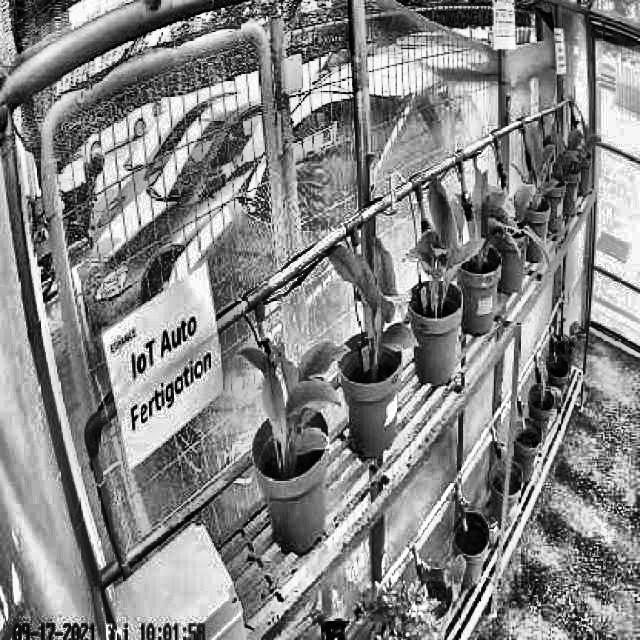plants: (241, 340, 345, 458), (326, 238, 422, 360), (406, 168, 484, 298), (467, 163, 521, 266), (528, 132, 558, 210)
